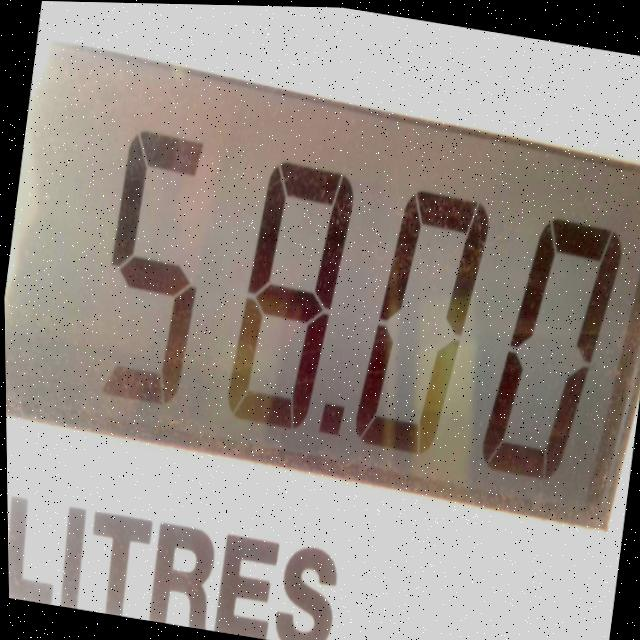.: (302, 379, 356, 469)
0: (469, 182, 629, 486), (346, 173, 495, 473)
5: (82, 114, 240, 422)
8: (210, 147, 357, 457)
